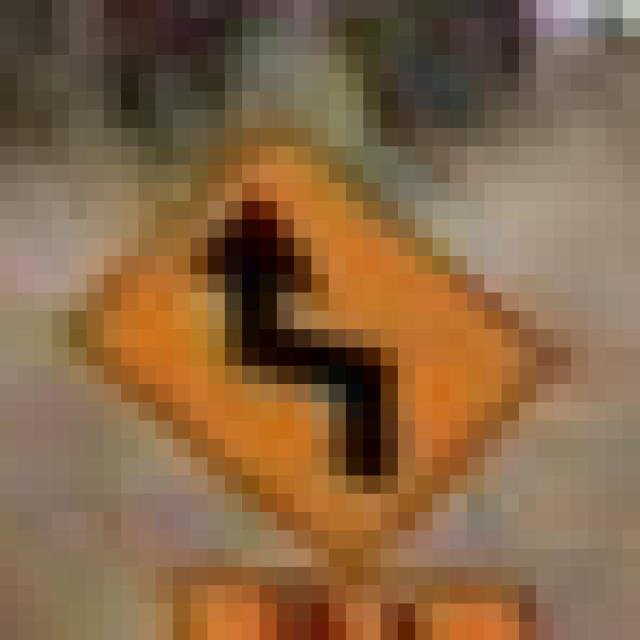Tikungan Ganda Pertama Ke Kiri: (17, 73, 554, 549)
